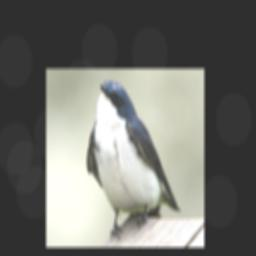Swallow: (85, 80, 181, 241)
